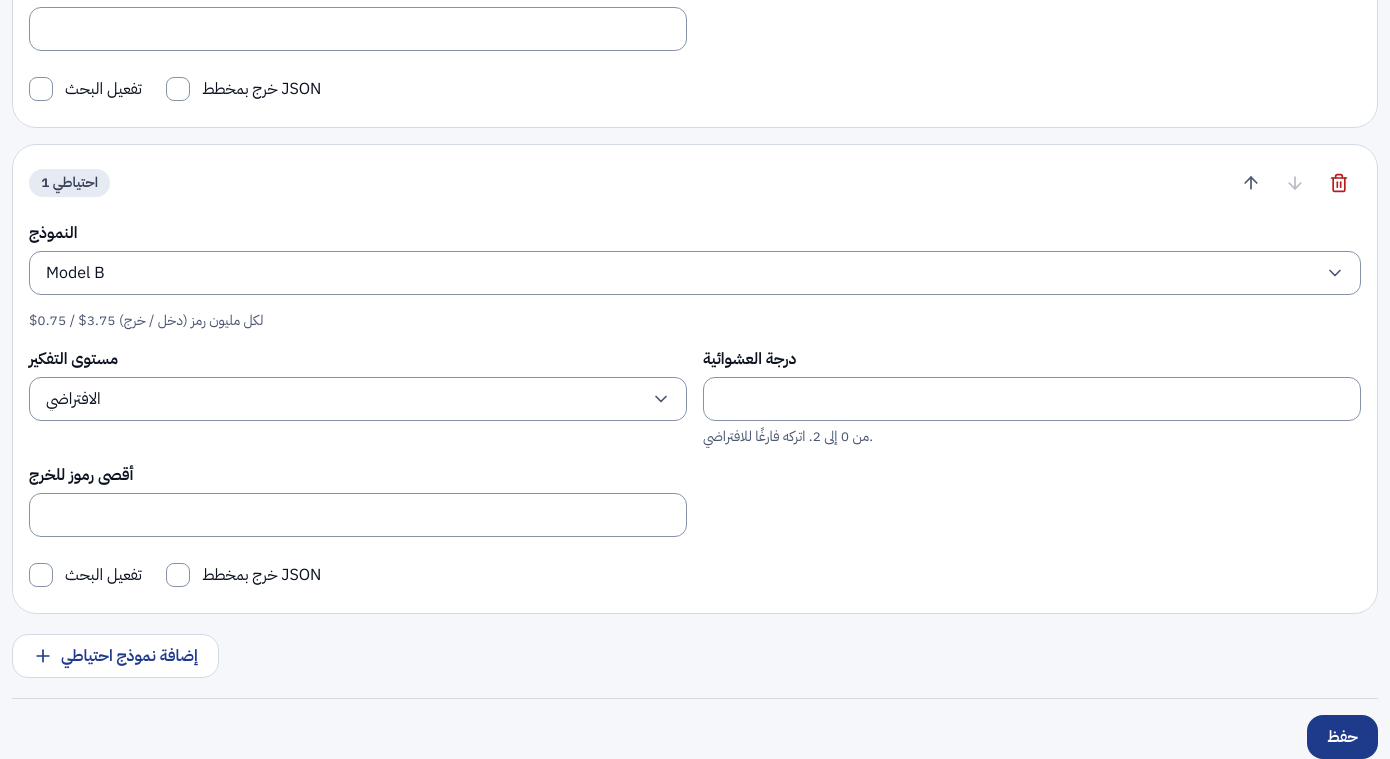
Test: RouteEditor › reloads and says so when someone else saved first
(page scrolled)
Click the button "حفظ": (1343, 737) x1=1307 y1=715 x2=1378 y2=758
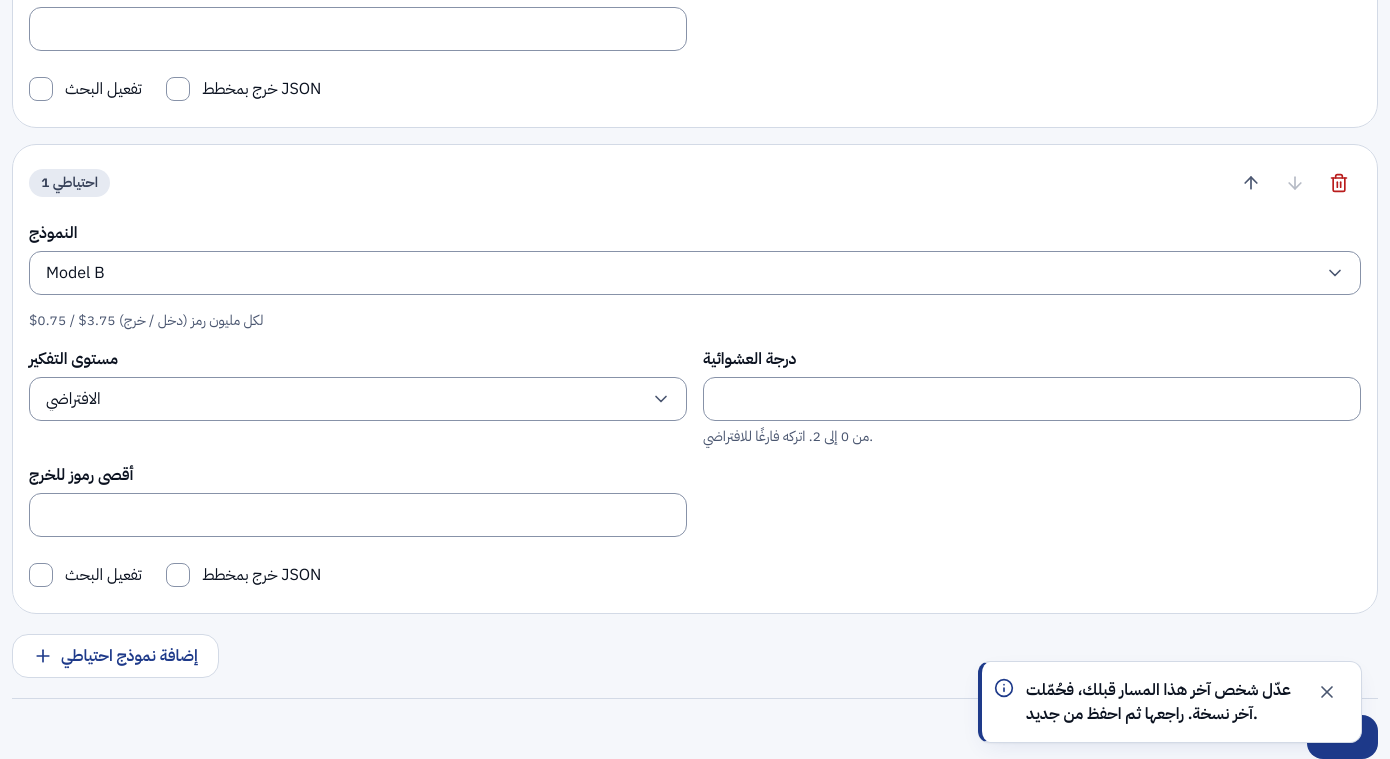
Now the text "عدّل شخص آخر هذا المسار قبلك، فحُمّلت آخر نسخة. راجعها ثم احفظ من جديد." is shown, box x1=1026 y1=678 x2=1293 y2=726
